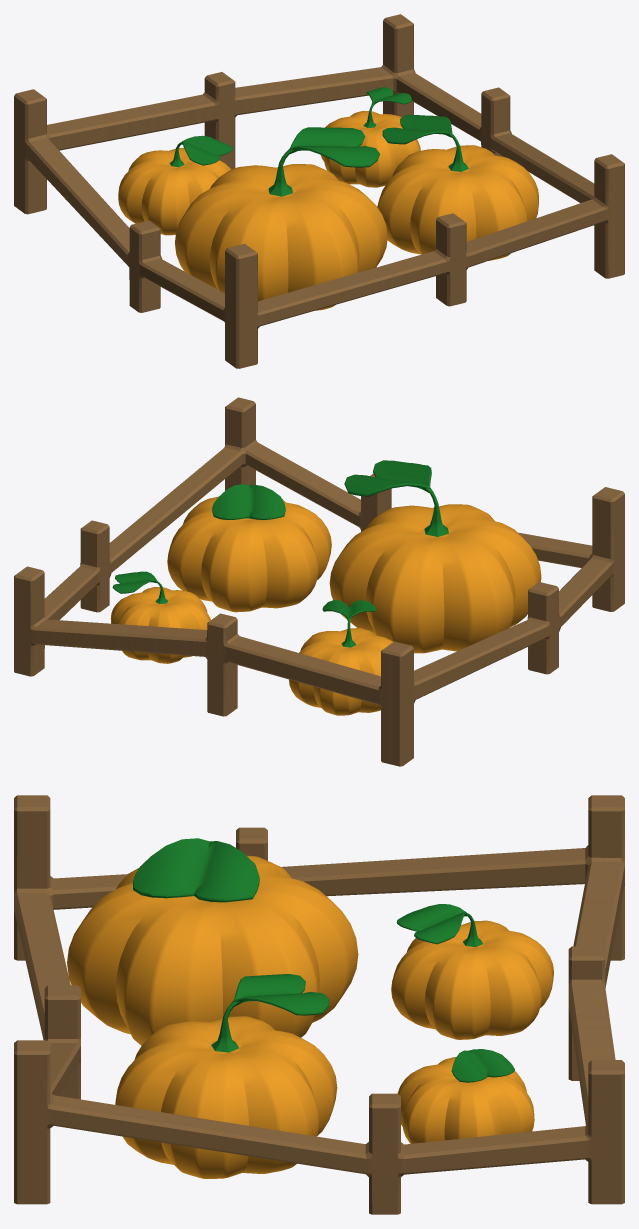
The model's file is Field.fbx.
The picture shows the model from 3 angles, top to bottom: view 1: azimuth 30°, elevation 25°; view 2: azimuth 150°, elevation 25°; view 3: azimuth 270°, elevation 25°; orthographic projection. The views are drawn at different scales.
Parts seen in each view (by area): view 1: Fense, Pumkin; view 2: Pumkin, Fense; view 3: Pumkin, Fense.
Boxes of the visible parts, <box> form: Fense: <box>14,14,624,368</box>; Pumkin: <box>118,87,538,310</box>; Pumkin: <box>110,460,541,715</box>; Fense: <box>14,397,624,766</box>; Pumkin: <box>67,838,553,1178</box>; Fense: <box>14,795,624,1214</box>.
Bounding box in the file's own units: 3.42 × 1.16 × 3.16.
